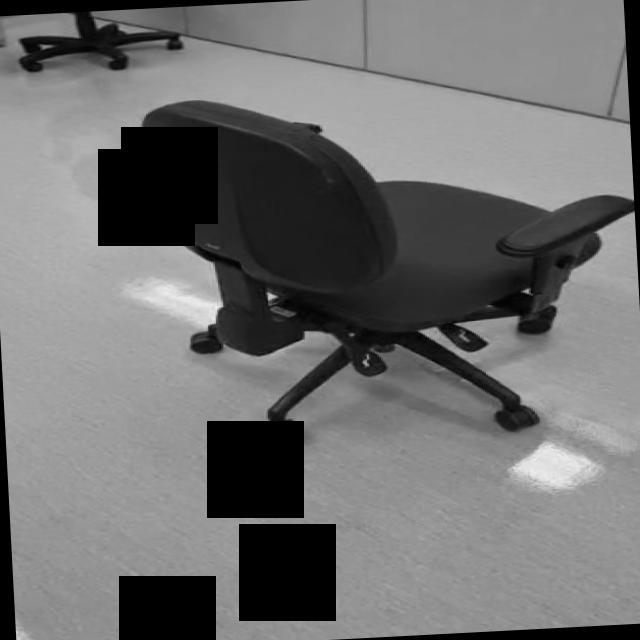chair: (139, 81, 640, 452)
